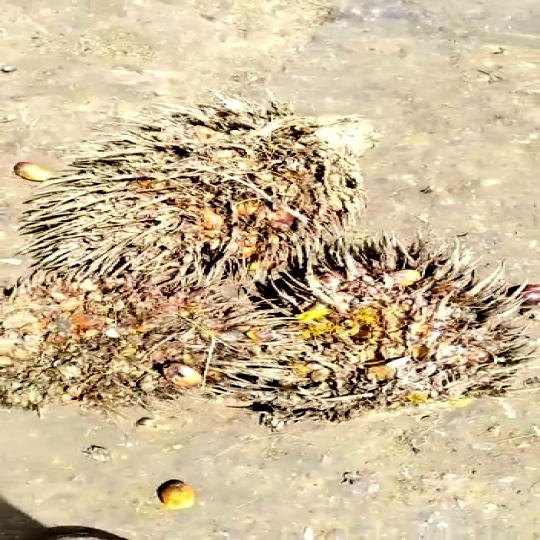terlalu masak: (12, 106, 394, 304), (203, 255, 532, 429)
